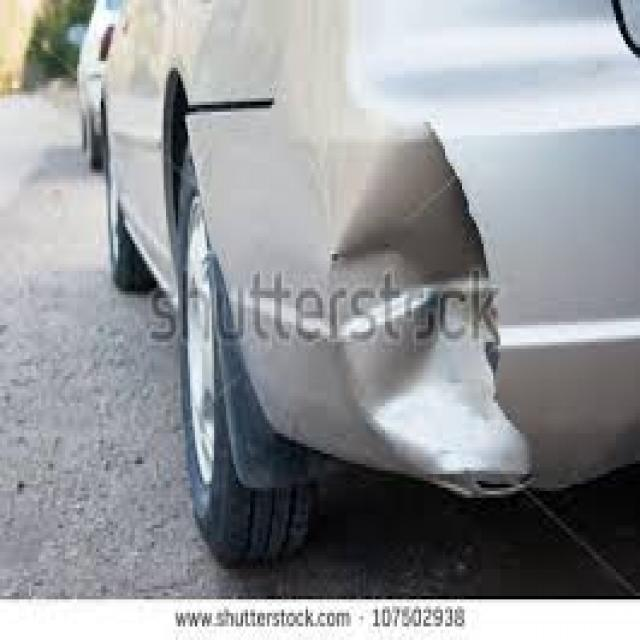minor: (308, 78, 584, 588)
